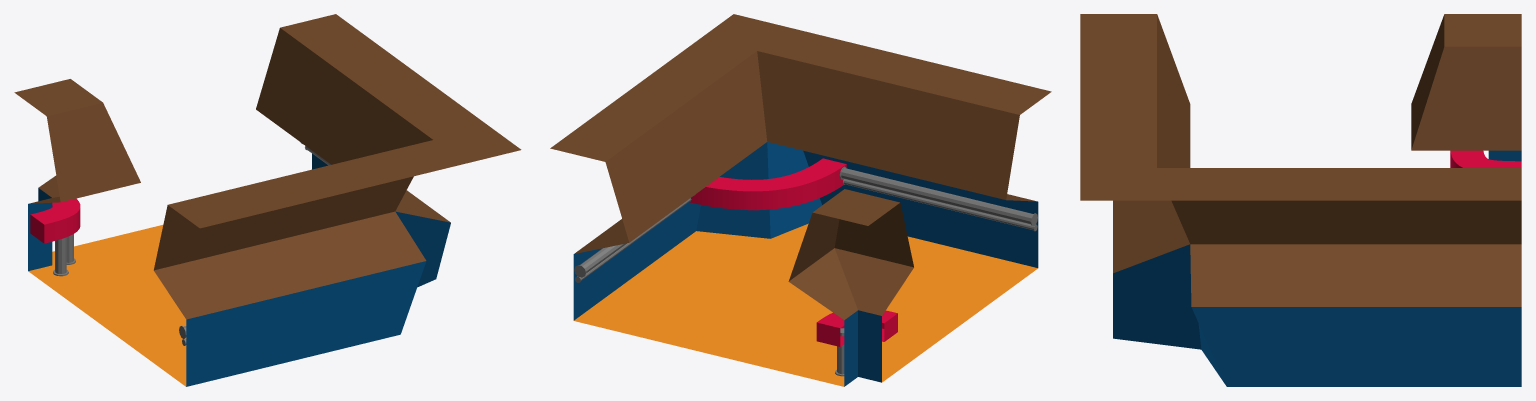
The model's file is Corner.fbx.
3 views of the same model, side by side, from view 1: azimuth 30°, elevation 25°; view 2: azimuth 150°, elevation 25°; view 3: azimuth 270°, elevation 25° (orthographic). The views are drawn at different scales.
Parts seen in each view (by area): view 1: Corner, Cube.005, Cylinder.015; view 2: Corner, Cube.010, Cylinder.024, Cube.005, Cylinder.025; view 3: Corner, Cube.005.
Part boxes in pixels (left/top/right/bottom): Corner: left=14, top=14, right=521, bottom=386; Cube.005: left=30, top=198, right=80, bottom=243; Cylinder.015: left=53, top=237, right=68, bottom=276; Corner: left=550, top=14, right=1051, bottom=386; Cube.010: left=690, top=158, right=846, bottom=210; Cylinder.024: left=839, top=166, right=1037, bottom=231; Cube.005: left=816, top=310, right=897, bottom=346; Cylinder.025: left=574, top=194, right=695, bottom=282; Corner: left=1080, top=14, right=1521, bottom=386; Cube.005: left=1450, top=150, right=1521, bottom=167.
Bounding box in the file's own units: 4 × 2 × 4.
Materials: 3 (1 with a texture image).
